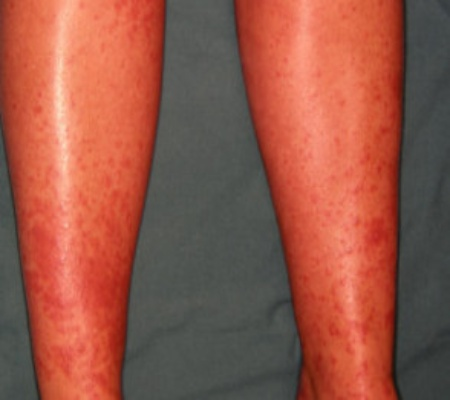SJS-TEN: (229, 0, 420, 400), (0, 0, 178, 400)
